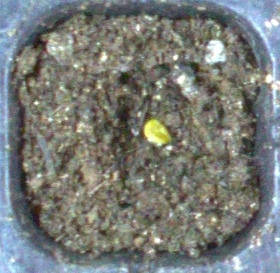pepper seed: (55, 45, 230, 192)
